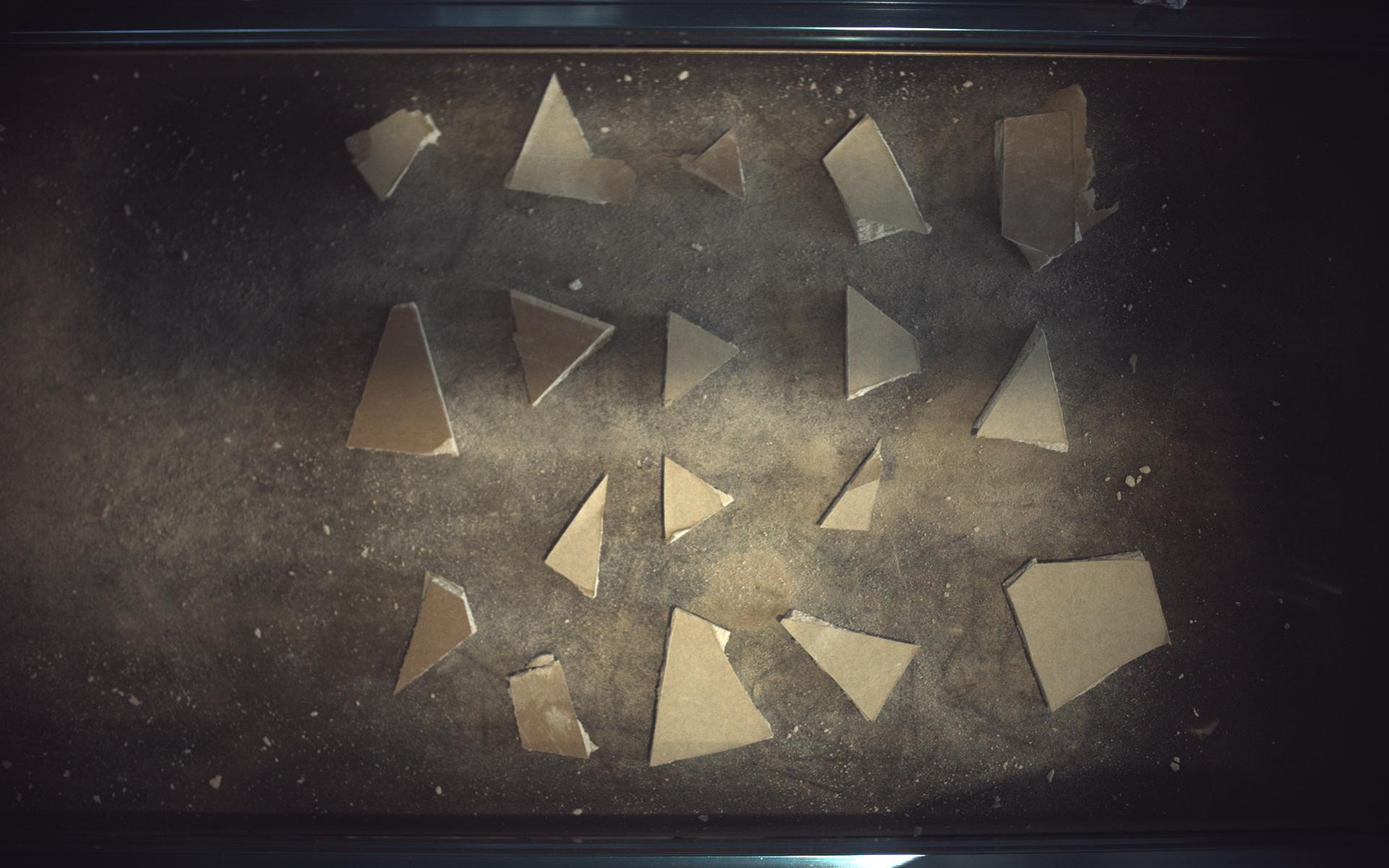gypsum_board: (1006, 551, 1173, 712), (997, 83, 1121, 270), (650, 609, 774, 767), (347, 302, 459, 456), (506, 72, 637, 203), (783, 610, 921, 722), (825, 114, 933, 244), (510, 289, 616, 407), (974, 323, 1069, 452), (393, 572, 477, 694), (509, 655, 598, 760), (345, 108, 441, 200), (848, 285, 922, 400), (545, 475, 608, 599), (664, 311, 740, 407), (665, 456, 734, 544), (821, 441, 884, 532), (680, 127, 745, 197)
